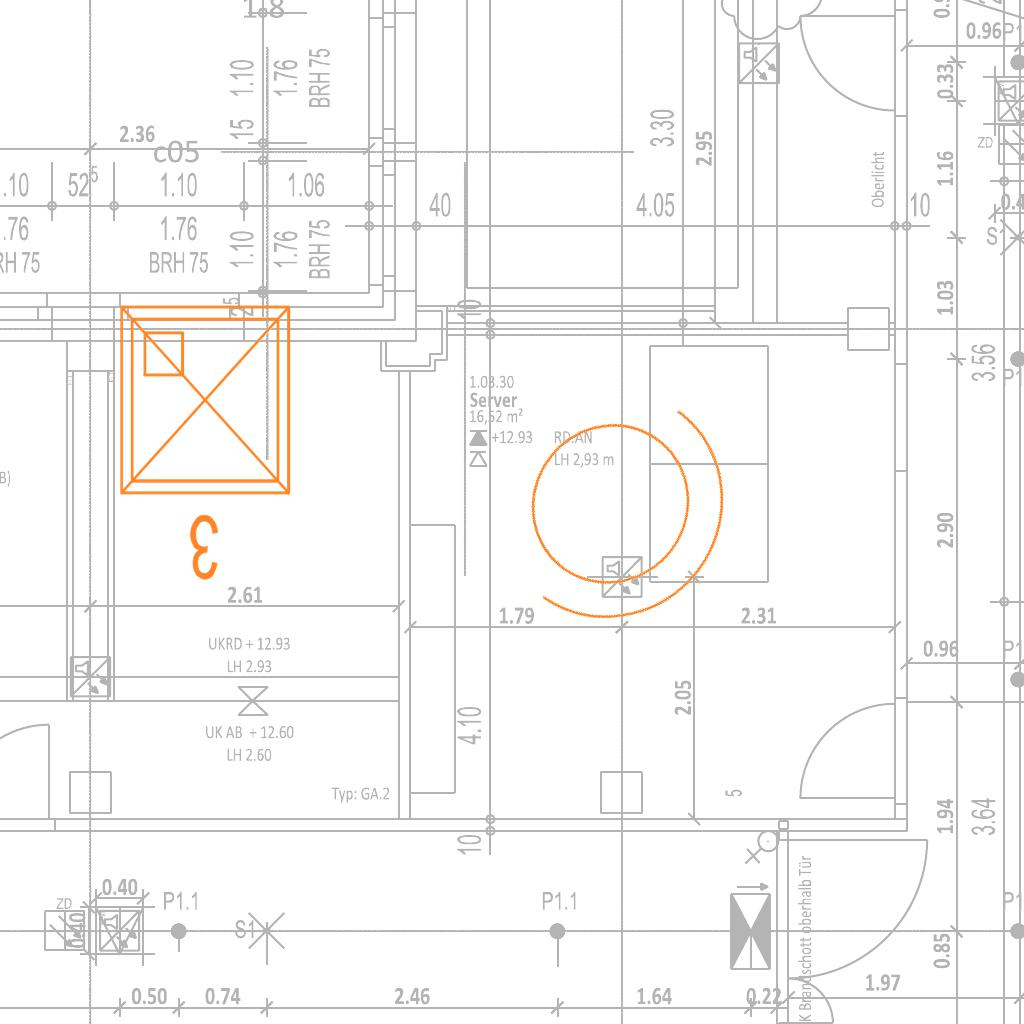Einbaudownlights_LED_Konferenzraeume: (105, 291, 313, 591)
Scheinwerfer_fuer_Alarmbeleuchtung: (453, 331, 791, 678)
